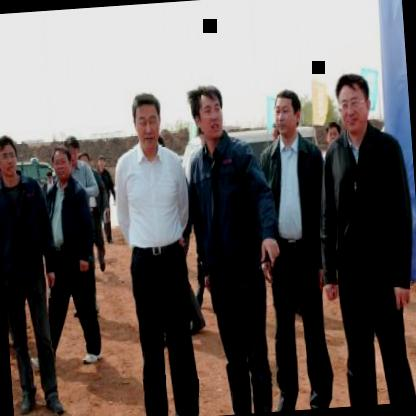head: (330, 70, 379, 139), (184, 79, 230, 143), (130, 89, 168, 156), (272, 88, 310, 140), (0, 131, 23, 183), (48, 143, 74, 184), (322, 116, 343, 147), (64, 132, 83, 163), (94, 152, 108, 174)
